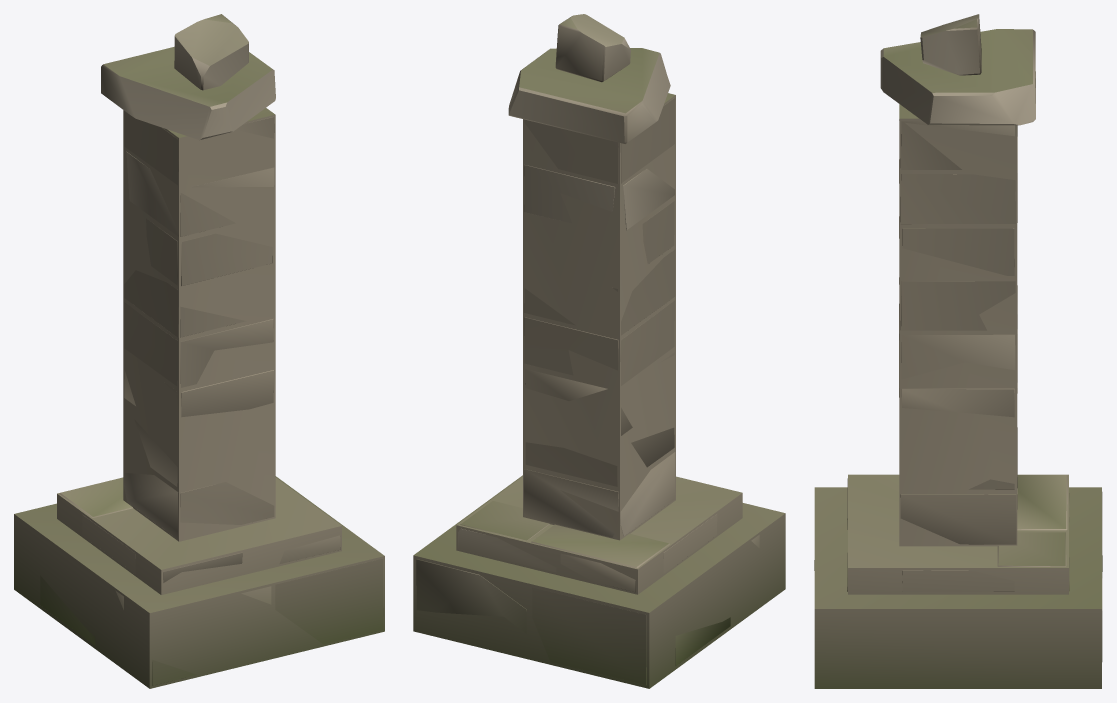
File: tombs_pillar.glb
3 views of the same model, side by side, from view 1: azimuth 30°, elevation 25°; view 2: azimuth 150°, elevation 25°; view 3: azimuth 270°, elevation 25° (orthographic). The views are drawn at different scales.
Parts seen in each view (by area): view 1: tombs_pillar_far, tombs_pillar; view 2: tombs_pillar, tombs_pillar_far; view 3: tombs_pillar_far, tombs_pillar.
Part boxes in pixels (left/top/right/bottom): tombs_pillar_far: left=14, top=108, right=384, bottom=688; tombs_pillar: left=40, top=14, right=383, bottom=685; tombs_pillar: left=416, top=14, right=759, bottom=685; tombs_pillar_far: left=413, top=93, right=785, bottom=688; tombs_pillar_far: left=814, top=104, right=1101, bottom=688; tombs_pillar: left=814, top=14, right=1102, bottom=661.
Bounding box in the file's own units: 7.81 × 18.47 × 7.82.
